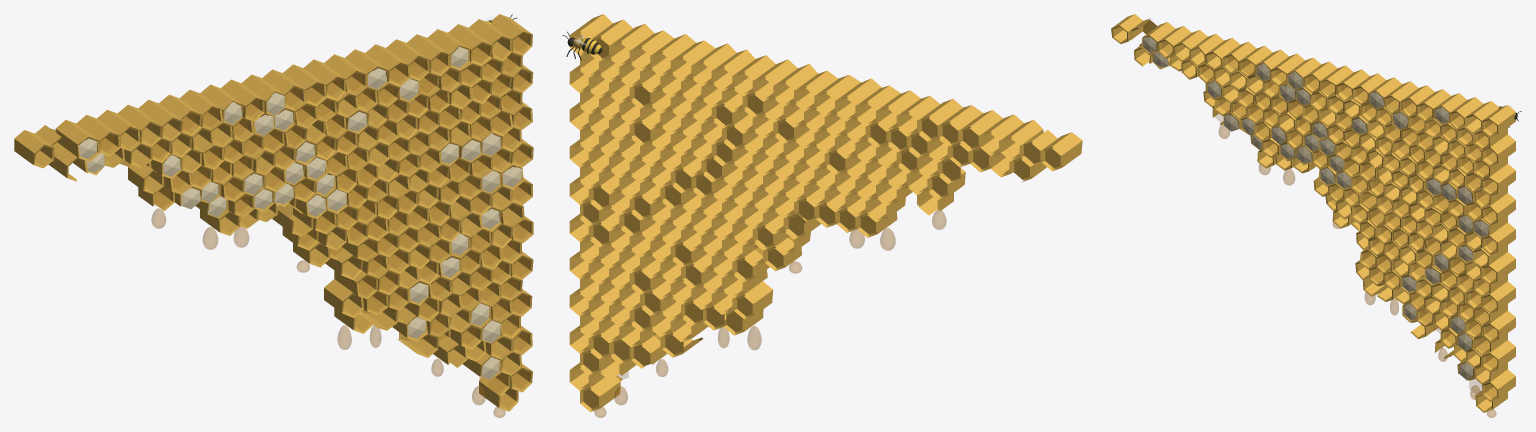
The model's file is corner_comb.glb.
3 views of the same model, side by side, from view 1: azimuth 30°, elevation 25°; view 2: azimuth 150°, elevation 25°; view 3: azimuth 330°, elevation 25° (orthographic). The views are drawn at different scales.
Parts seen in each view (by area): view 1: CornerComb, CombDrips; view 2: CornerComb, CombDrips; view 3: CornerComb, CombDrips.
Part boxes in pixels (x1,y1,x2,y2): CornerComb: (14,14,533,411); CombDrips: (151,208,505,417); CornerComb: (569,14,1082,411); CombDrips: (594,210,946,417); CornerComb: (1111,14,1515,412); CombDrips: (1219,124,1496,417).
Size of the model in its own units: 0.336 by 0.2521 by 0.0364.
